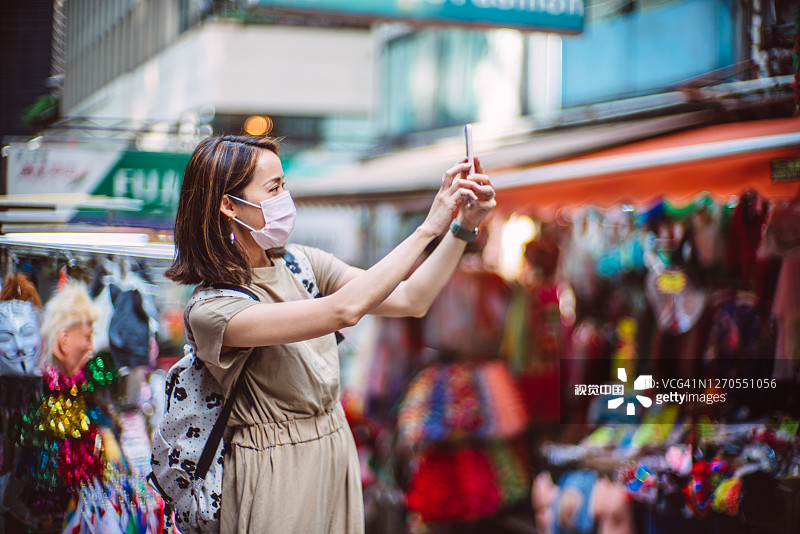taking photos: (414, 127, 509, 237)
